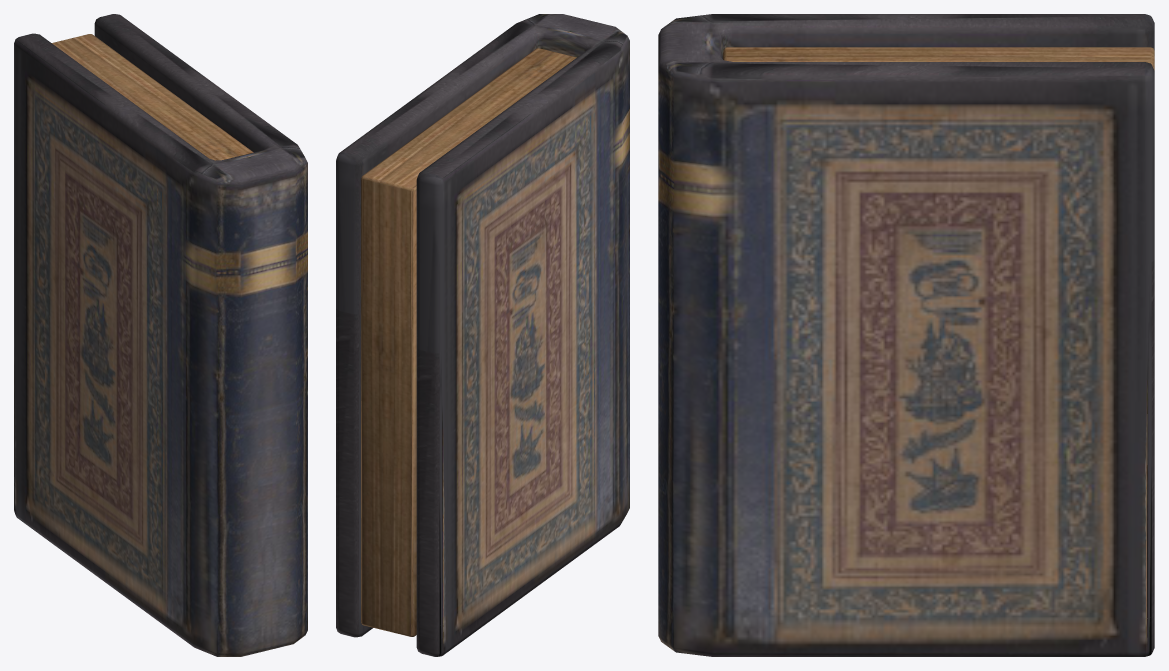
Rendered from Book1.fbx.
3 renders of one model, left to right at view 1: azimuth 30°, elevation 25°; view 2: azimuth 150°, elevation 25°; view 3: azimuth 270°, elevation 25°, orthographic. The views are drawn at different scales.
Visible parts, largest first — view 1: Book; view 2: Book; view 3: Book.
Boxes of the visible parts, left/top/right/bottom form: Book: left=14, top=14, right=307, bottom=656; Book: left=336, top=14, right=629, bottom=656; Book: left=658, top=14, right=1154, bottom=656.
Bounding box in the file's own units: 7 × 30 × 23.
Materials: 1 (1 with a texture image).
